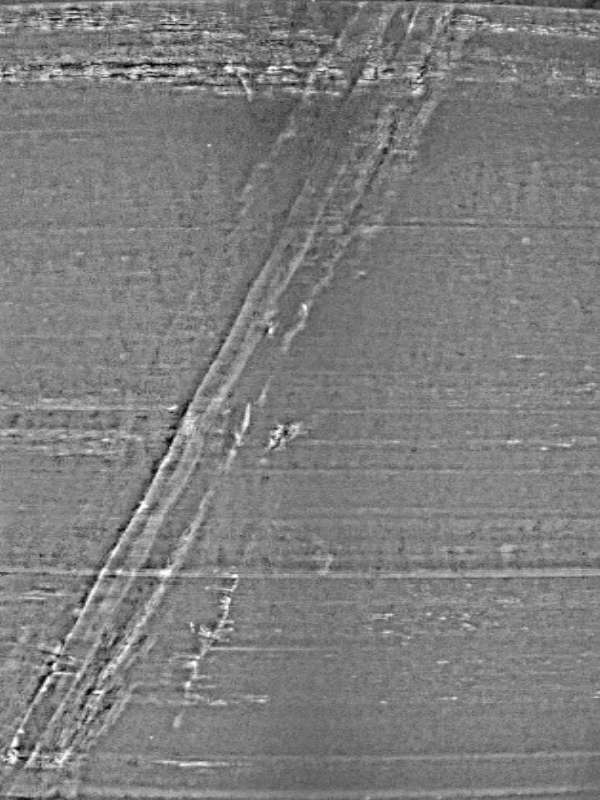splice_vulcanized: (4, 1, 454, 800)
